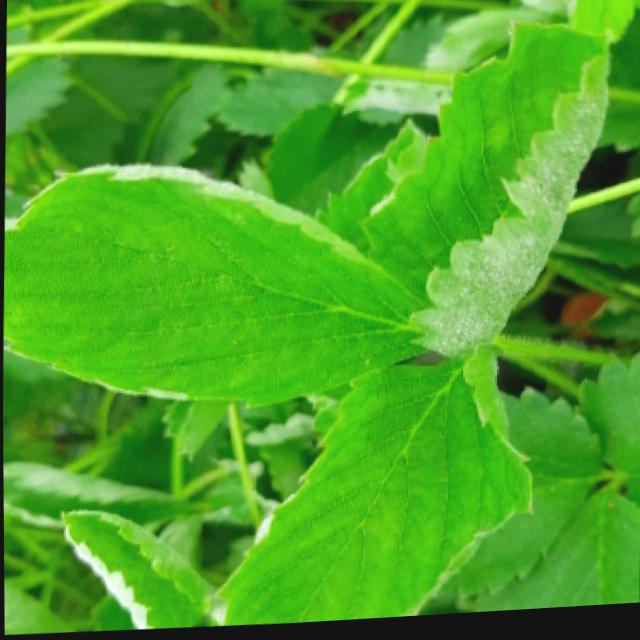Powdery Mildew Leaf: (2, 160, 429, 415), (211, 349, 532, 628), (359, 22, 608, 365), (56, 510, 216, 631), (3, 462, 194, 532)
